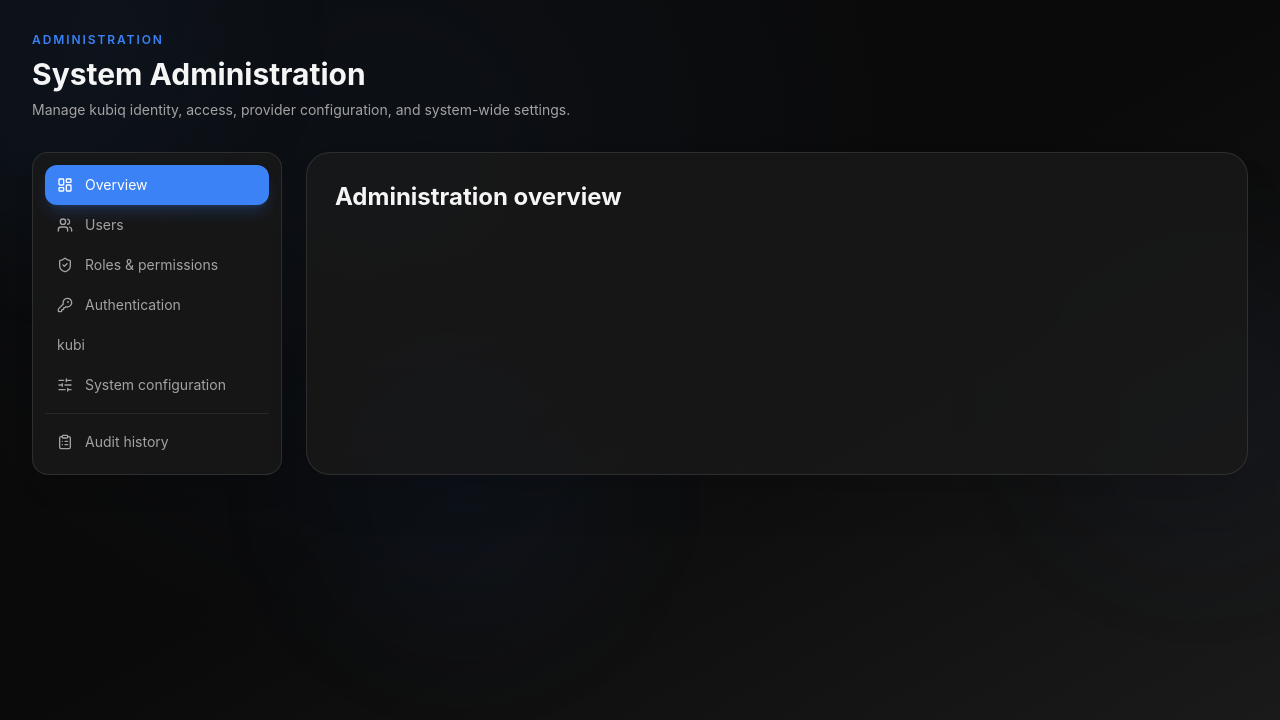
Scenario: system administration compatibility › retains compatibility with the older object-shaped disk configuration
What coordinates should you click on to do the following:
click the button "System configuration"
I would click on:
 (157, 385)
Its box is left=45, top=365, right=269, bottom=405.
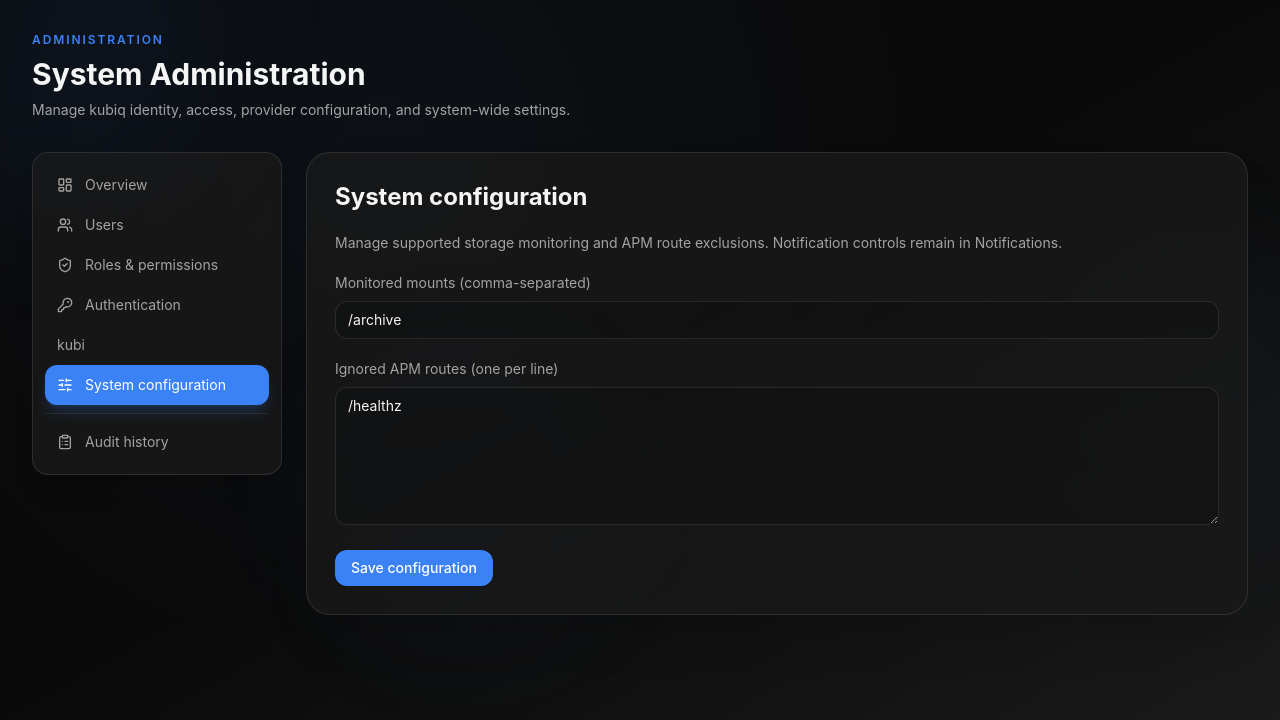
Expected: the field labelled "Monitored mounts (comma-separated)" holds "/archive", left=335, top=301, right=1219, bottom=339
